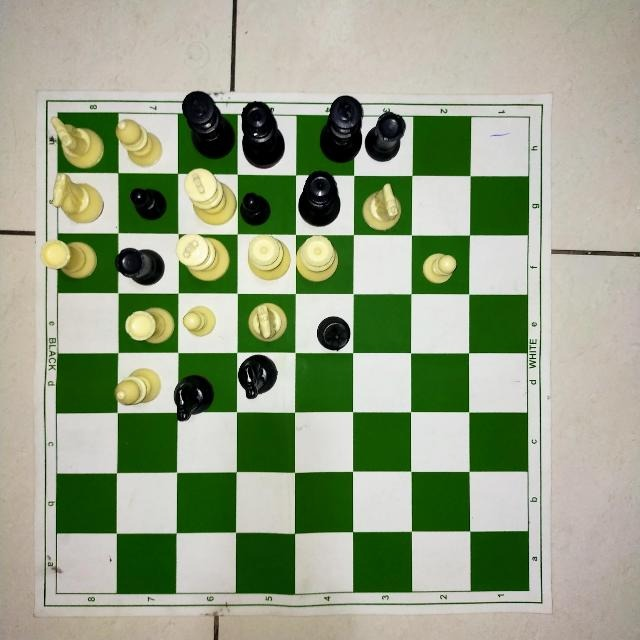black-king: (296, 114, 353, 178), (181, 114, 231, 174)
black-knight: (182, 354, 240, 414), (244, 358, 280, 402)
black-pawn: (121, 183, 177, 231), (244, 187, 285, 223)
black-queen: (236, 116, 293, 177), (298, 187, 352, 237)
black-rook: (120, 234, 170, 294), (299, 302, 351, 352), (366, 119, 410, 169)
white-bishop: (121, 116, 176, 176), (117, 355, 166, 404)
white-king: (179, 184, 235, 234), (179, 240, 231, 285)
white-knight: (55, 115, 113, 173), (240, 299, 290, 353), (55, 176, 106, 226), (363, 183, 411, 235)
white-pawn: (414, 240, 462, 290), (179, 296, 227, 345)
white-queen: (297, 237, 354, 293), (241, 238, 293, 290)
white-rook: (121, 297, 179, 351), (58, 235, 106, 290)
